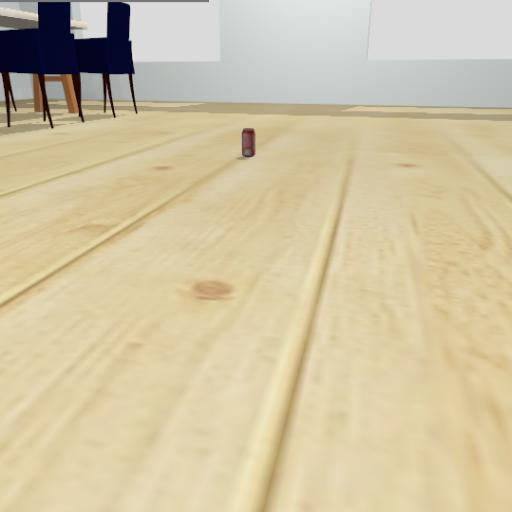COCA: (233, 111, 267, 172)
